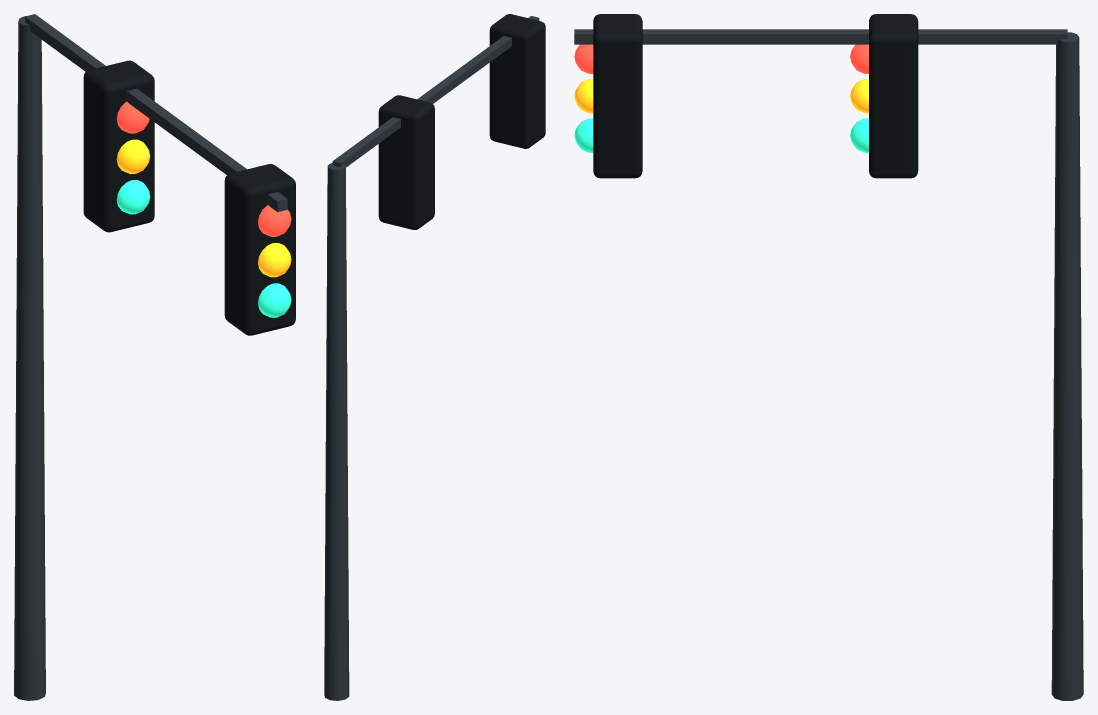
The model's file is traffic-signal.glb.
The picture shows the model from 3 angles, left to right: view 1: azimuth 30°, elevation 25°; view 2: azimuth 150°, elevation 25°; view 3: azimuth 270°, elevation 25°; orthographic projection. The views are drawn at different scales.
Visible parts, largest first — view 1: signal pole, signal head, signal amber, signal green, signal red; view 2: signal pole, signal head; view 3: signal pole, signal head, signal green, signal amber, signal red.
Boxes of the visible parts, left/top/right/bottom form: signal pole: left=14, top=14, right=287, bottom=700; signal head: left=83, top=60, right=295, bottom=335; signal amber: left=116, top=139, right=291, bottom=277; signal green: left=116, top=180, right=291, bottom=317; signal red: left=116, top=101, right=291, bottom=236; signal pole: left=324, top=16, right=539, bottom=700; signal head: left=378, top=14, right=545, bottom=229; signal pole: left=574, top=29, right=1083, bottom=700; signal head: left=593, top=14, right=918, bottom=178; signal green: left=574, top=118, right=868, bottom=152; signal amber: left=574, top=79, right=868, bottom=113; signal red: left=574, top=44, right=868, bottom=73.
Size of the model in its own units: 0.4 by 5.1 by 3.51.
